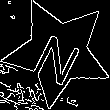N_NE: (29, 20, 87, 84)
